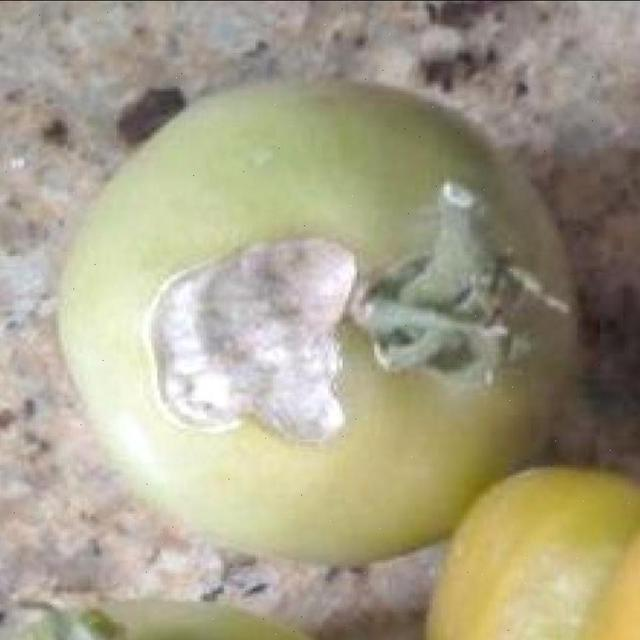Sunscald Fruit: (90, 122, 264, 304)
